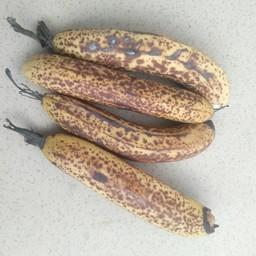Bad_banana: (42, 128, 221, 235), (39, 22, 233, 117), (19, 52, 213, 122), (37, 91, 213, 158)
